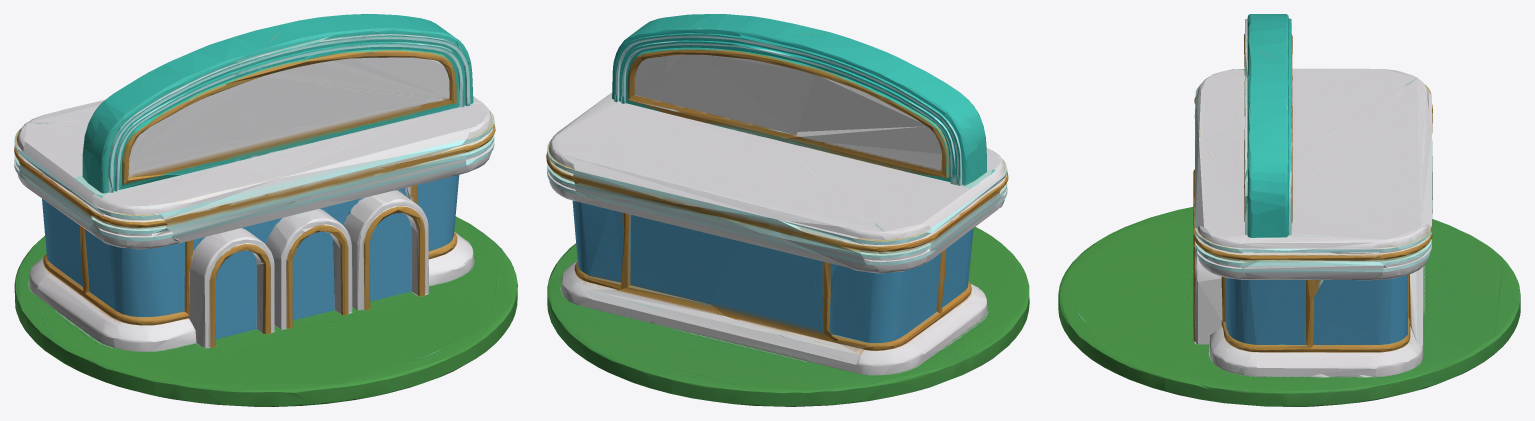
Rendered from arcade.glb.
3 renders of one model, left to right at view 1: azimuth 30°, elevation 25°; view 2: azimuth 150°, elevation 25°; view 3: azimuth 270°, elevation 25°, orthographic. The views are drawn at different scales.
Visible parts, largest first — view 1: Mesh_0; view 2: Mesh_0; view 3: Mesh_0.
Part boxes in pixels (box(x1,y1,x2,y2)): Mesh_0: box(14, 14, 517, 406); Mesh_0: box(546, 14, 1029, 406); Mesh_0: box(1058, 14, 1520, 406).
Size of the model in its own units: 1.9 by 1.15 by 1.9.
1 material, 1 textured.
